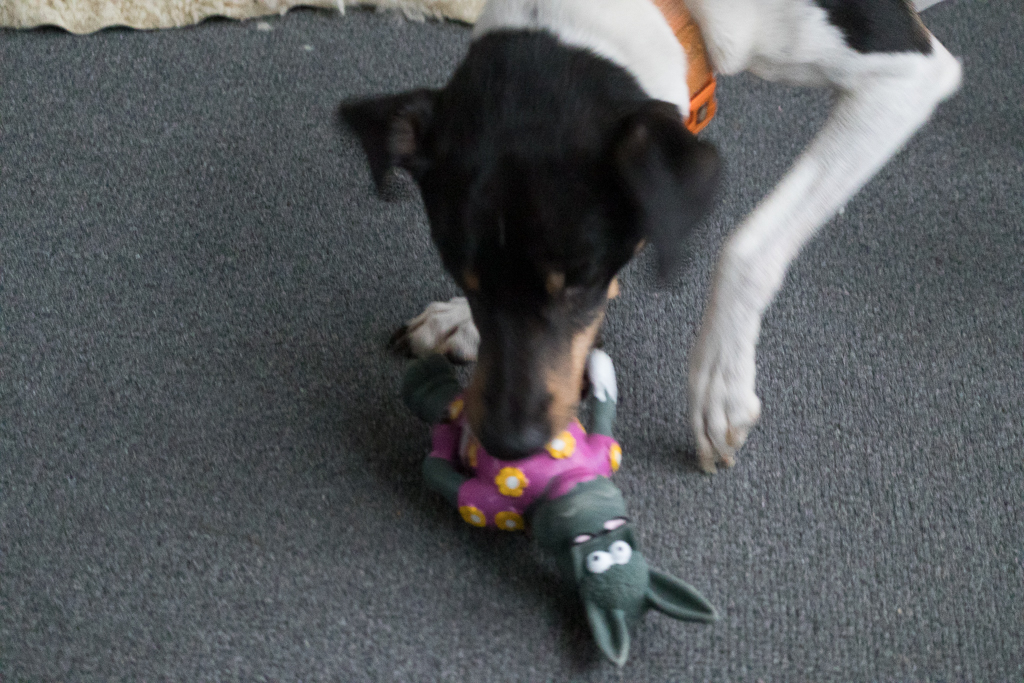Dog: (321, 0, 1024, 486)
Humanoid: (382, 342, 736, 679)
